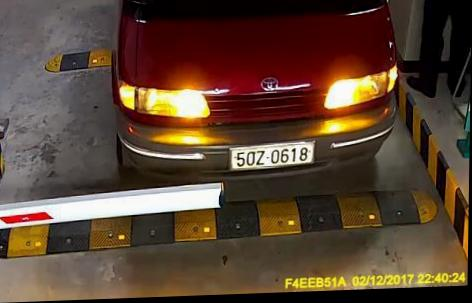License_Plate: (223, 142, 316, 174)
